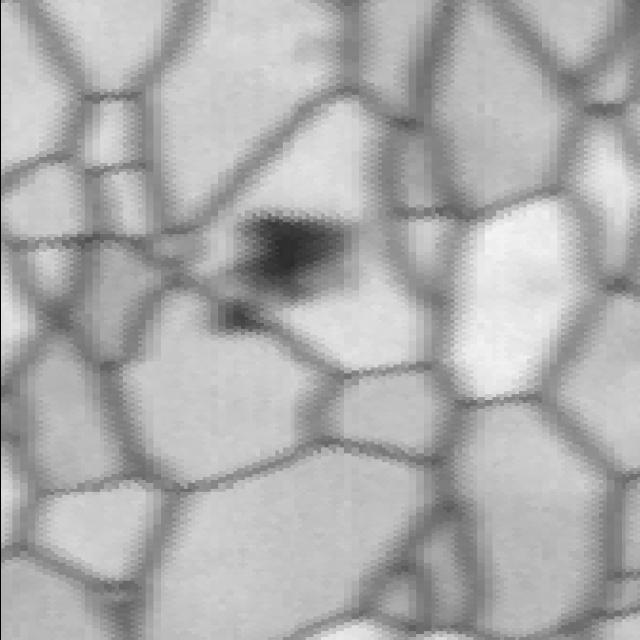good_void: (211, 208, 366, 333)
